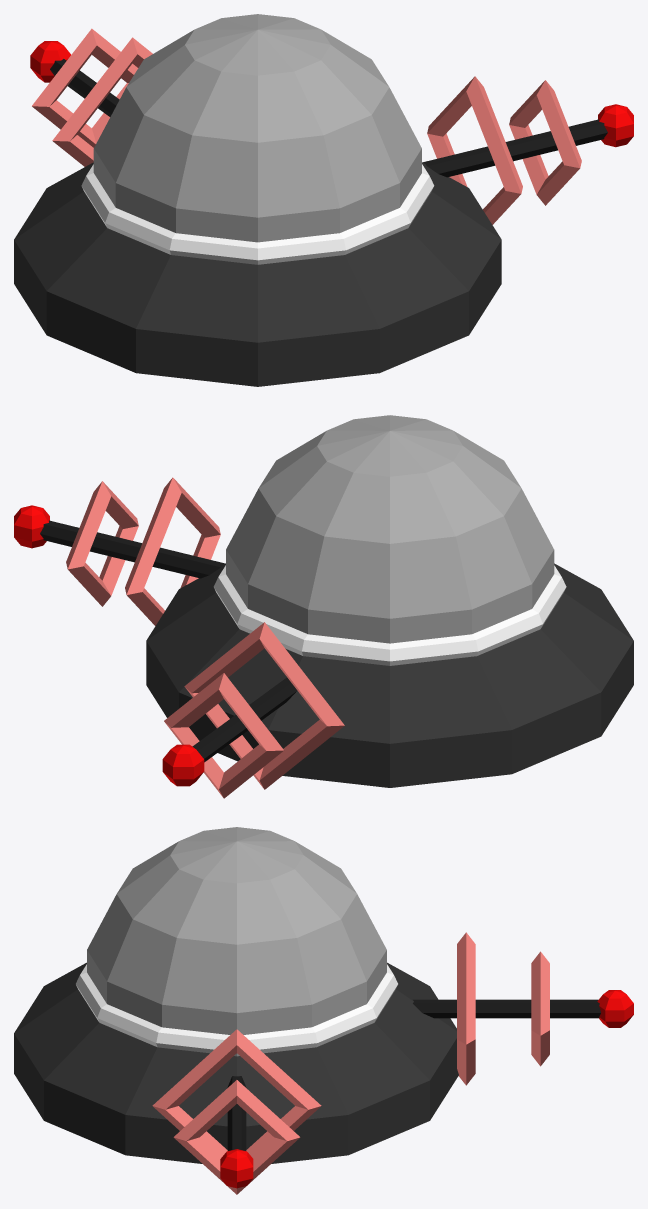
Rendered from alien_ship8.fbx.
3 renders of one model, top to bottom at view 1: azimuth 30°, elevation 25°; view 2: azimuth 150°, elevation 25°; view 3: azimuth 270°, elevation 25°, orthographic. The views are drawn at different scales.
Parts seen in each view (by area): view 1: merge4; view 2: merge4; view 3: merge4.
Boxes of the visible parts, x1,y1,x2,y2 form: merge4: (14, 14, 633, 386); merge4: (14, 415, 633, 798); merge4: (14, 827, 633, 1194).
Size of the model in its own units: 2.78 by 1.21 by 2.78.
